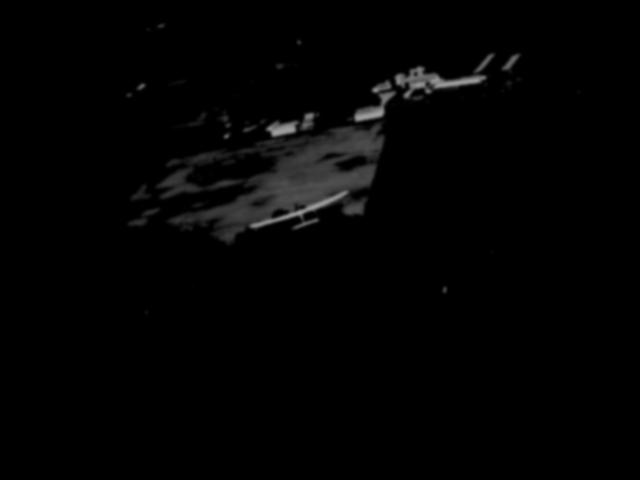hedef: (246, 183, 371, 261)
